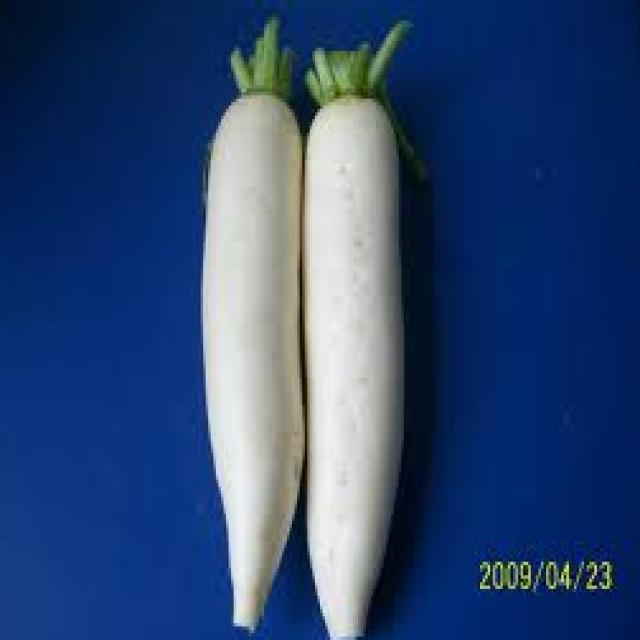radish: (158, 0, 440, 640)
